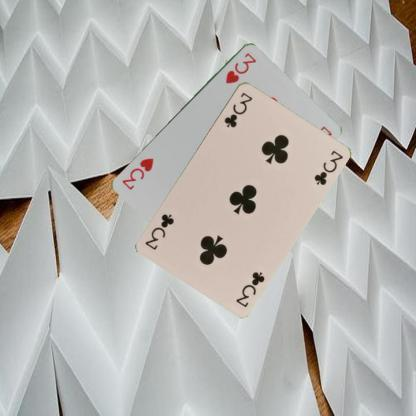3c: (233, 267, 266, 308), (221, 89, 254, 129)
3h: (222, 50, 258, 85)
